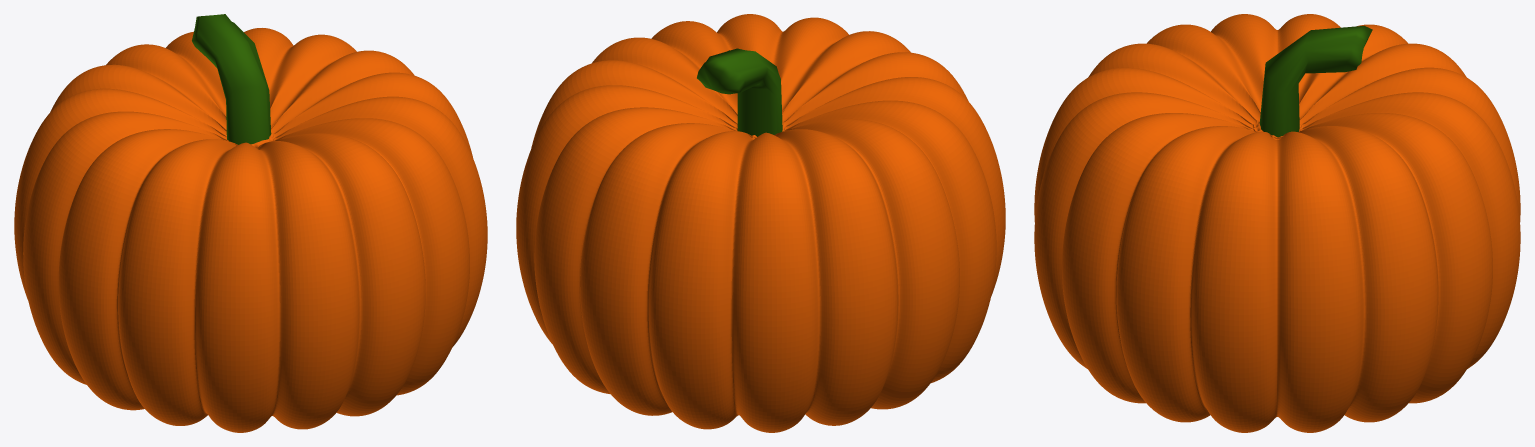
Rendered from pumpkin.fbx.
3 views of the same model, side by side, from view 1: azimuth 30°, elevation 25°; view 2: azimuth 150°, elevation 25°; view 3: azimuth 270°, elevation 25° (orthographic). The views are drawn at different scales.
Visible parts, largest first — view 1: Sphere.001, Cylinder; view 2: Sphere.001, Cylinder; view 3: Sphere.001, Cylinder.
Part boxes in pixels (x1,y1,x2,y2): Sphere.001: (14,28,487,432); Cylinder: (192,14,271,144); Sphere.001: (516,14,1005,432); Cylinder: (697,48,782,136); Sphere.001: (1034,14,1520,432); Cylinder: (1259,25,1372,137).
Bounding box in the file's own units: 199 × 151 × 199.
